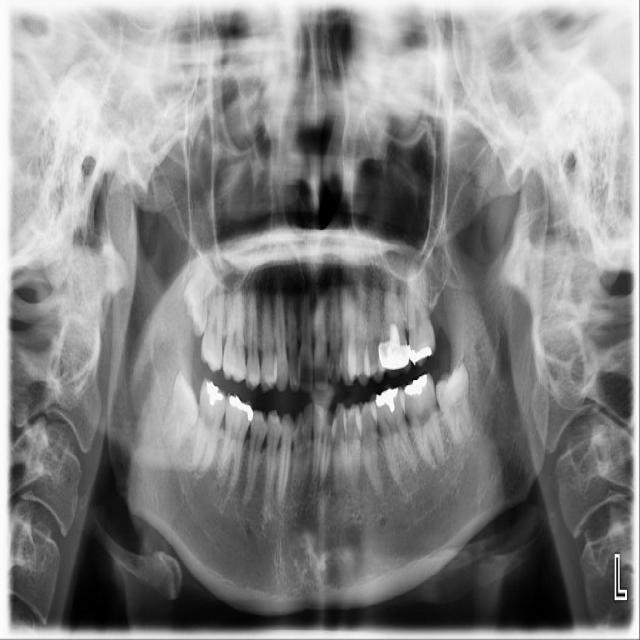3M ESPE Implant: (175, 254, 219, 339)
52: (185, 374, 238, 427), (392, 371, 445, 423), (366, 385, 413, 436), (401, 326, 447, 369), (223, 394, 255, 440), (377, 342, 412, 377)
73: (379, 265, 412, 346), (622, 610, 632, 620)
BioHorizons Implant: (406, 251, 437, 366)
Biomet 3i Implant: (432, 361, 475, 450)
Blue Sky Bio Implant: (395, 372, 447, 472)
Caries: (200, 269, 225, 373)
Implant: (189, 376, 231, 475)
Keystone Dental Implant: (156, 370, 209, 452)
